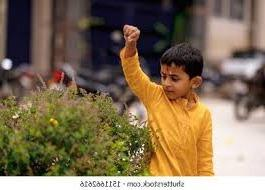Human: (114, 21, 222, 185)
